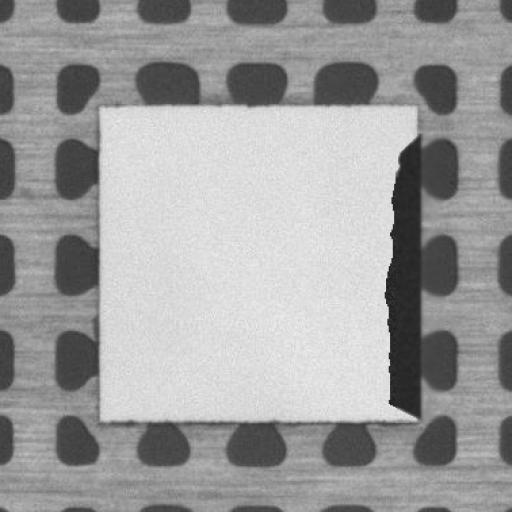DIE_BROKEN: (382, 141, 423, 416)
